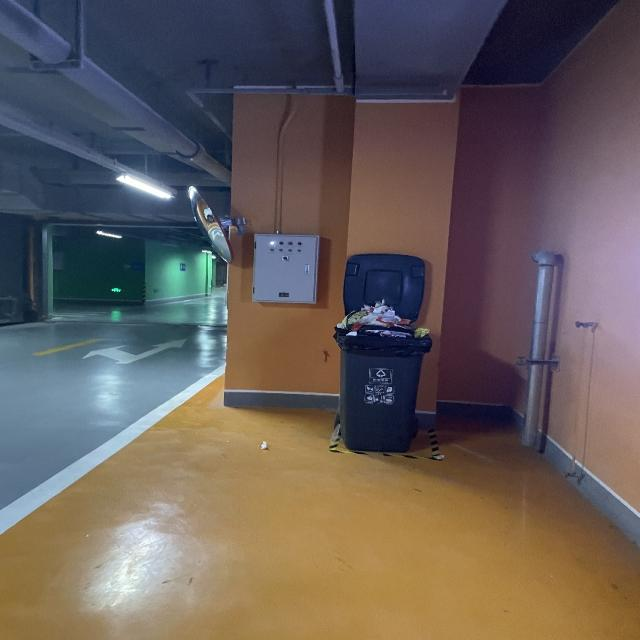overflow: (332, 298, 431, 452)
